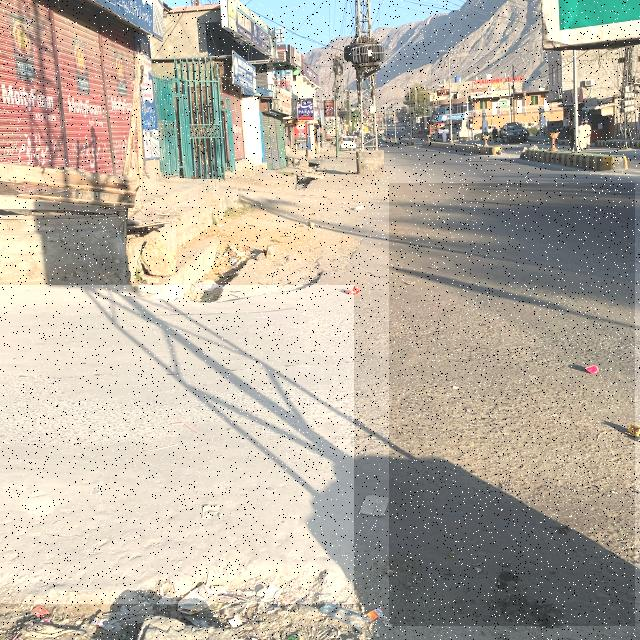left: (0, 285, 354, 604)
straight: (390, 183, 636, 626)
